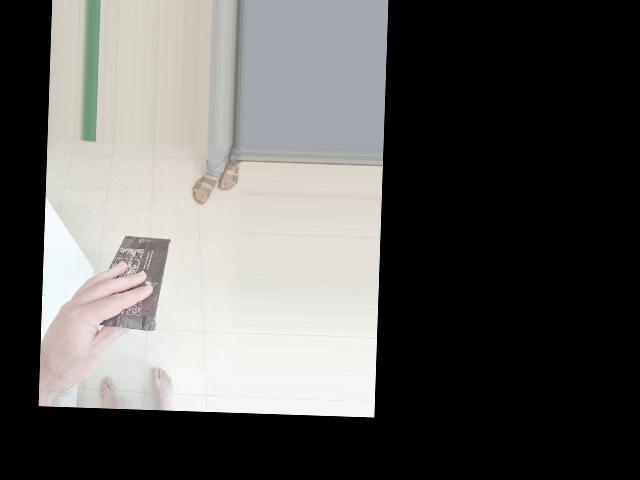chocolate: (134, 209, 252, 296)
